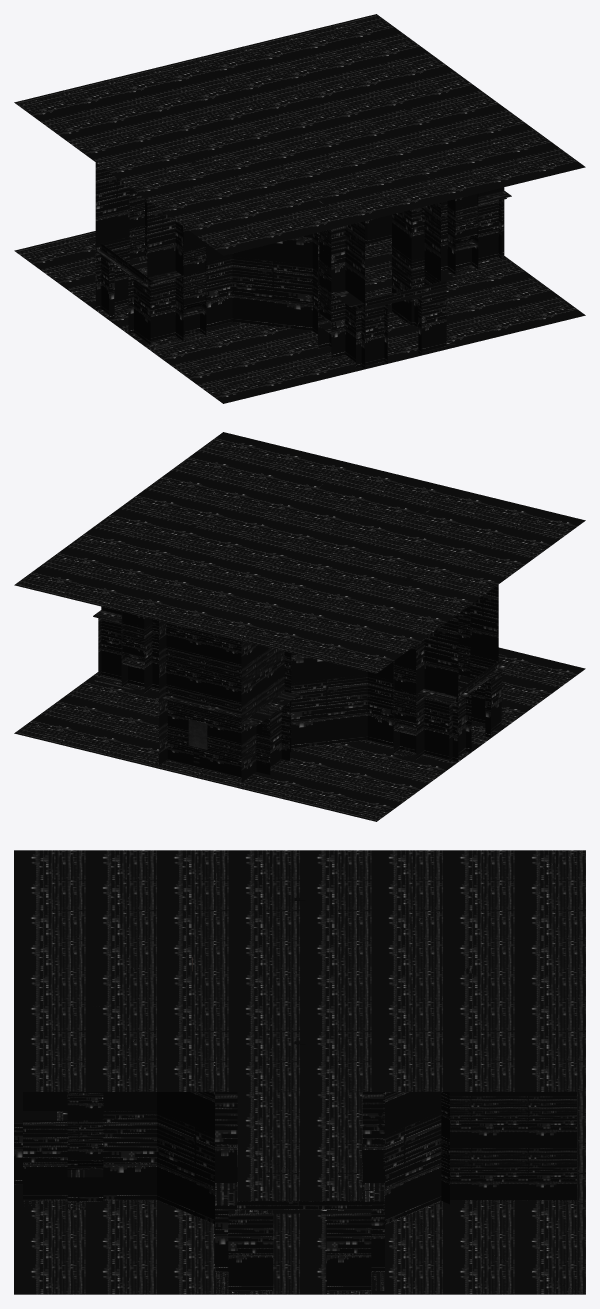
Rendered from room3_opt.obj.
3 views of the same model, one above another, from view 1: azimuth 30°, elevation 25°; view 2: azimuth 150°, elevation 25°; view 3: azimuth 270°, elevation 25° (orthographic). The views are drawn at different scales.
Bounding box in the file's own units: 2048 × 855 × 2048.
